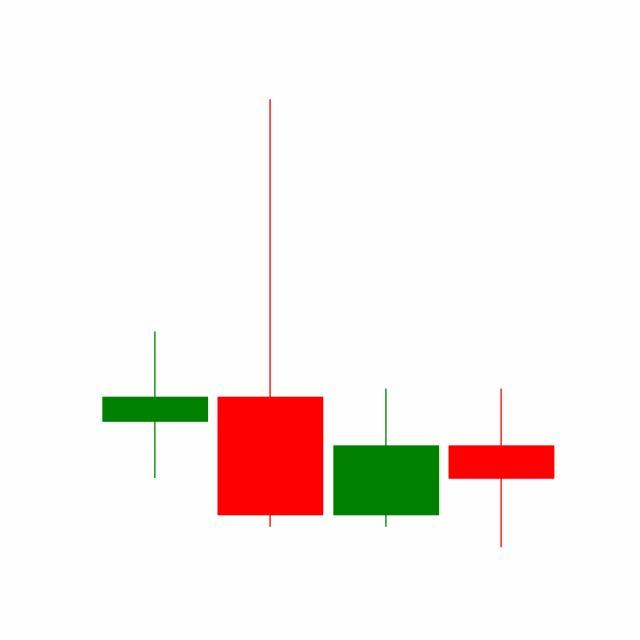Spinning Top: (444, 387, 560, 550)
